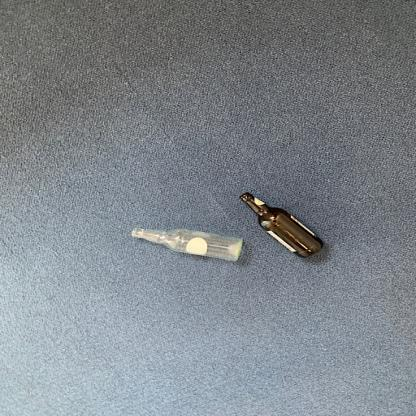trash: (237, 190, 329, 264), (124, 222, 244, 268)
